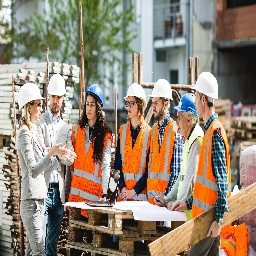helmet: (194, 71, 222, 107), (175, 97, 201, 123), (82, 81, 105, 110), (15, 83, 43, 106), (125, 80, 147, 109), (45, 72, 67, 98), (150, 79, 174, 101)
no-vest: (41, 111, 73, 201), (17, 123, 45, 212)
person: (191, 71, 236, 256), (14, 82, 51, 253), (69, 83, 113, 211), (140, 78, 179, 211), (45, 73, 73, 256), (115, 85, 155, 207), (173, 94, 204, 210)
vest: (195, 122, 229, 230), (70, 119, 108, 204), (118, 117, 151, 199), (146, 121, 176, 200)
